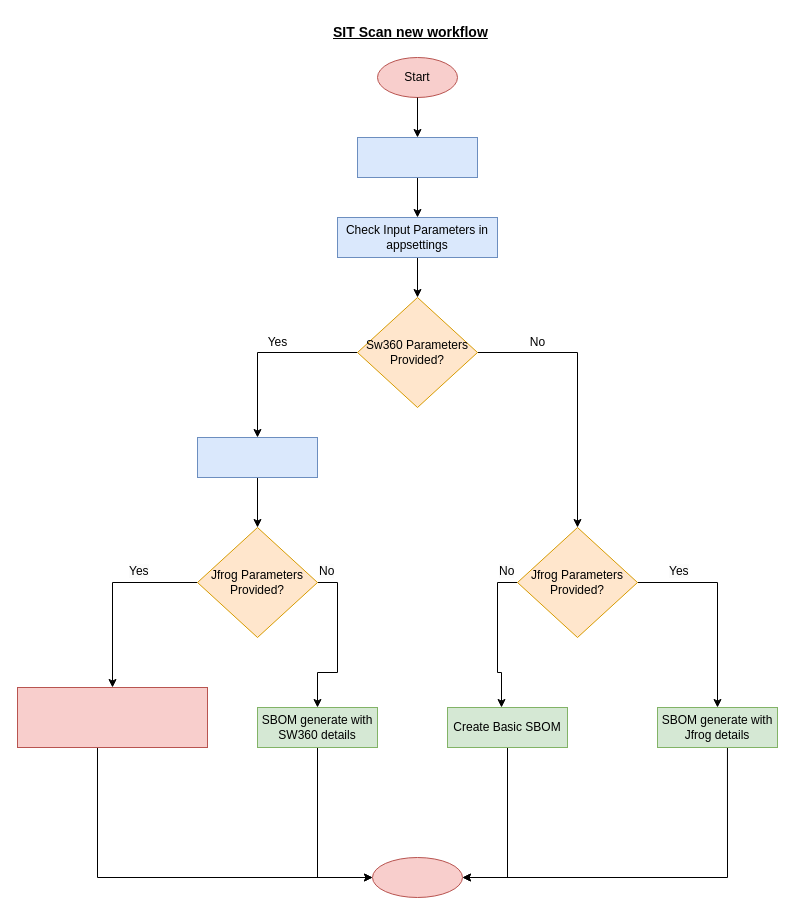
Some shapes in this 795 by 915 pixel diagram are drawn without their labels. The shapes that lost their labels are listed below. From the top down, each one's box as (x1, y1, x2, y2) in pixels, then its label:
(356, 136, 478, 178): Run SITScan.exe
(196, 436, 318, 478): Validate SW360 Parameters
(16, 686, 208, 748): SBOM generate with additional metadata and other details
(372, 856, 462, 898): End
